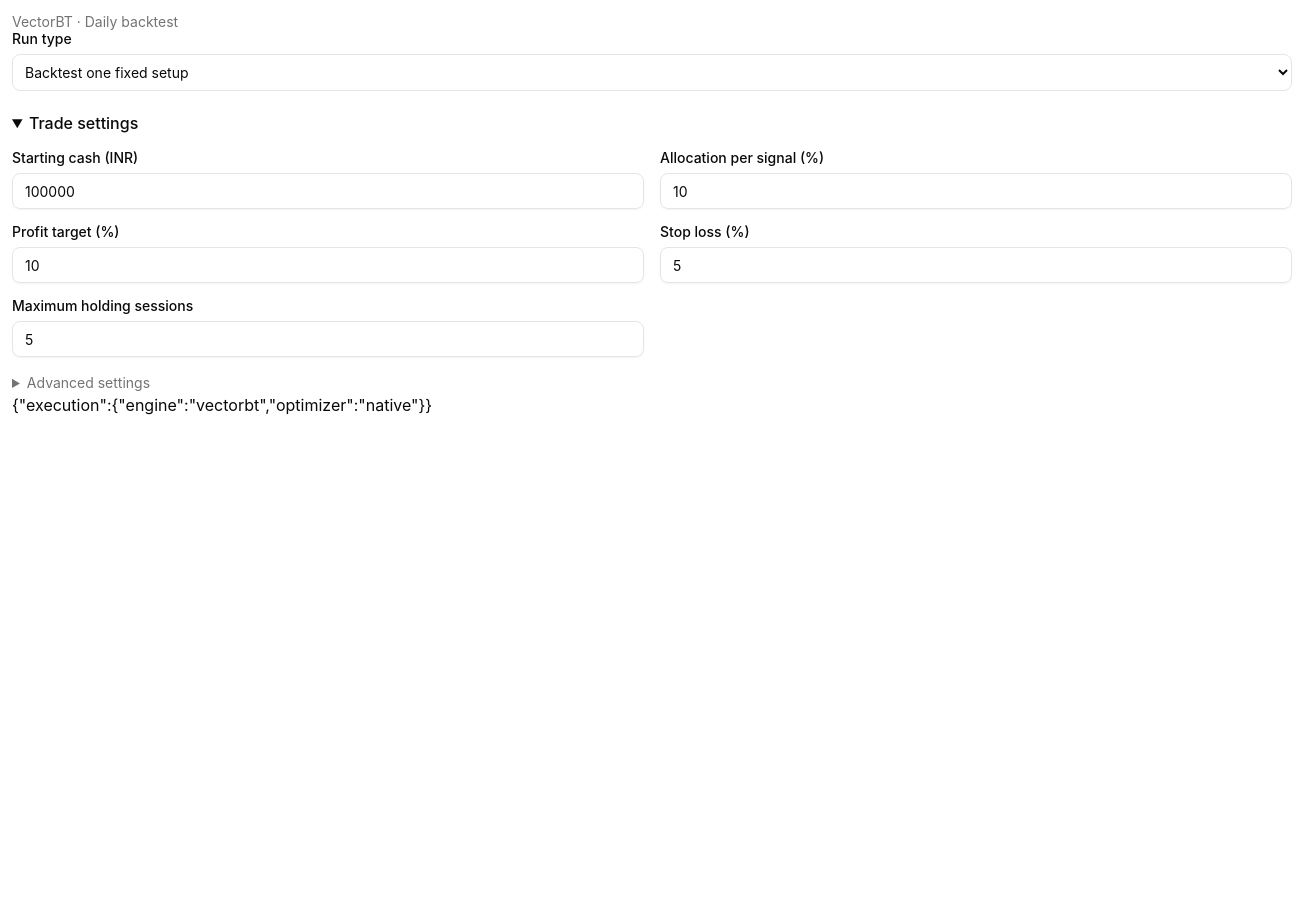
research connector controls › uses Optuna for optimization without advertising adaptive sampling or Bypass choices
Select "Explore settings" in the dropdown labelled "Run type" at (652,72), box [12, 54, 1292, 91]
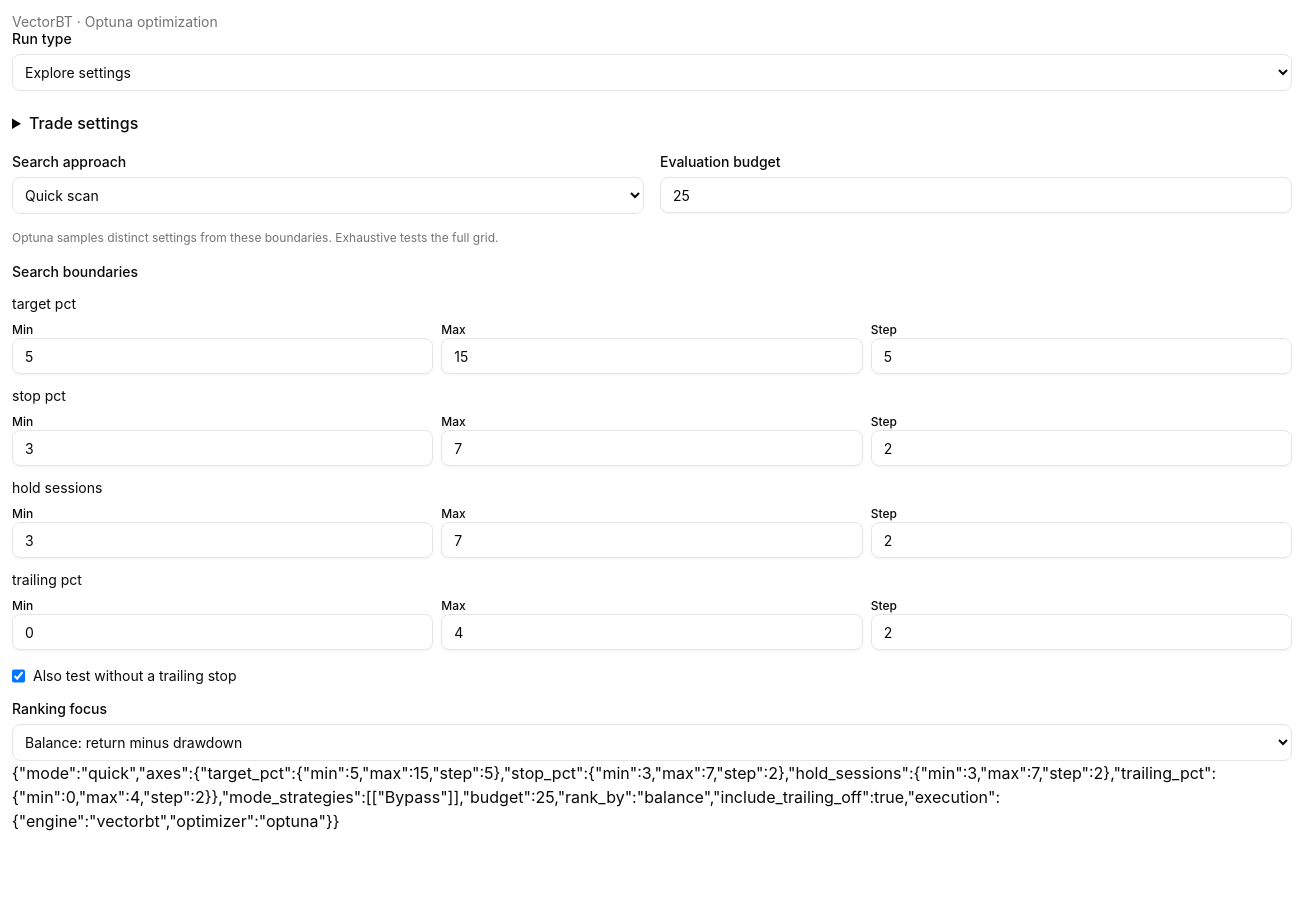
Expected: the field labelled "Optimizer" is not shown
Expected: the text "VectorBT · Optuna optimization" is shown, [12, 13, 218, 30]
Expected: the text with test id "request" shows "\"optimizer\":\"optuna\"", [12, 763, 1216, 831]
